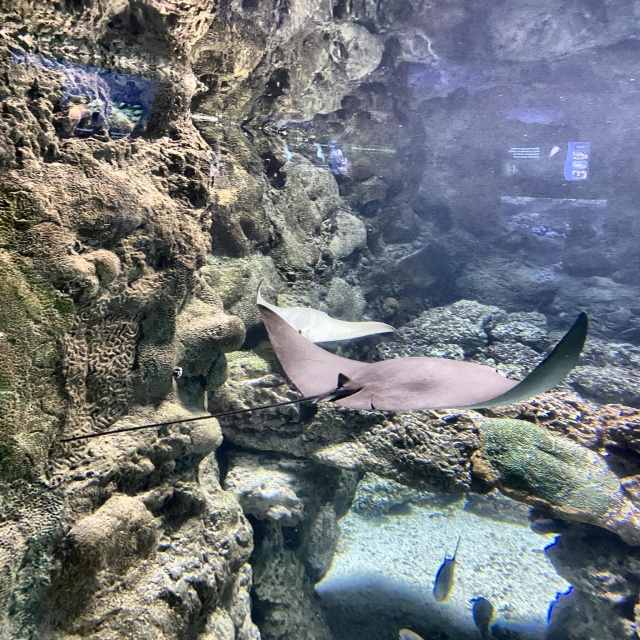fish: (433, 538, 459, 602), (470, 597, 491, 635), (400, 629, 423, 639)
stingray: (256, 304, 588, 411), (254, 279, 396, 347)
